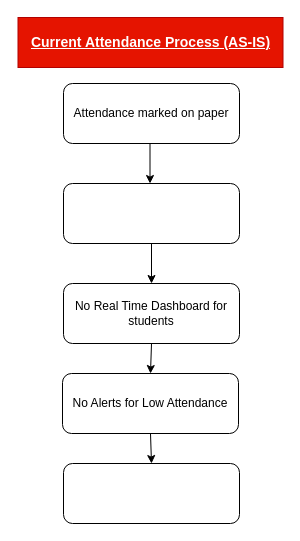
Some shapes in this 300 by 541 pixel diagram are drawn without their labels. The box of each missing label's shape, as (x1, y1, x2, y2) in pixels:
Manual entry in portal (48Hrs Delay): (62, 182, 240, 244)
Manual Report Compilation for Exams: (62, 462, 240, 524)
